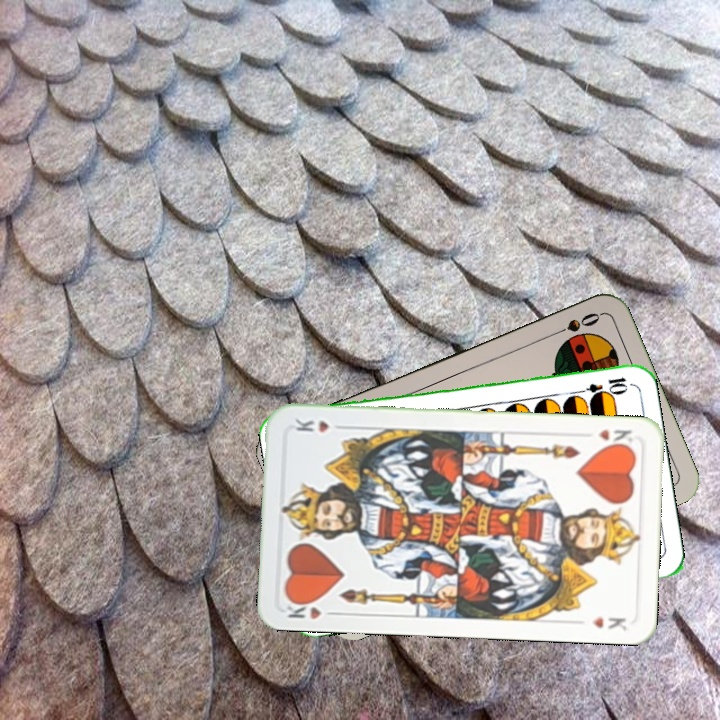E10: (571, 373, 630, 399)
HK: (281, 595, 341, 622), (594, 425, 635, 450)
SO: (547, 308, 603, 339)
